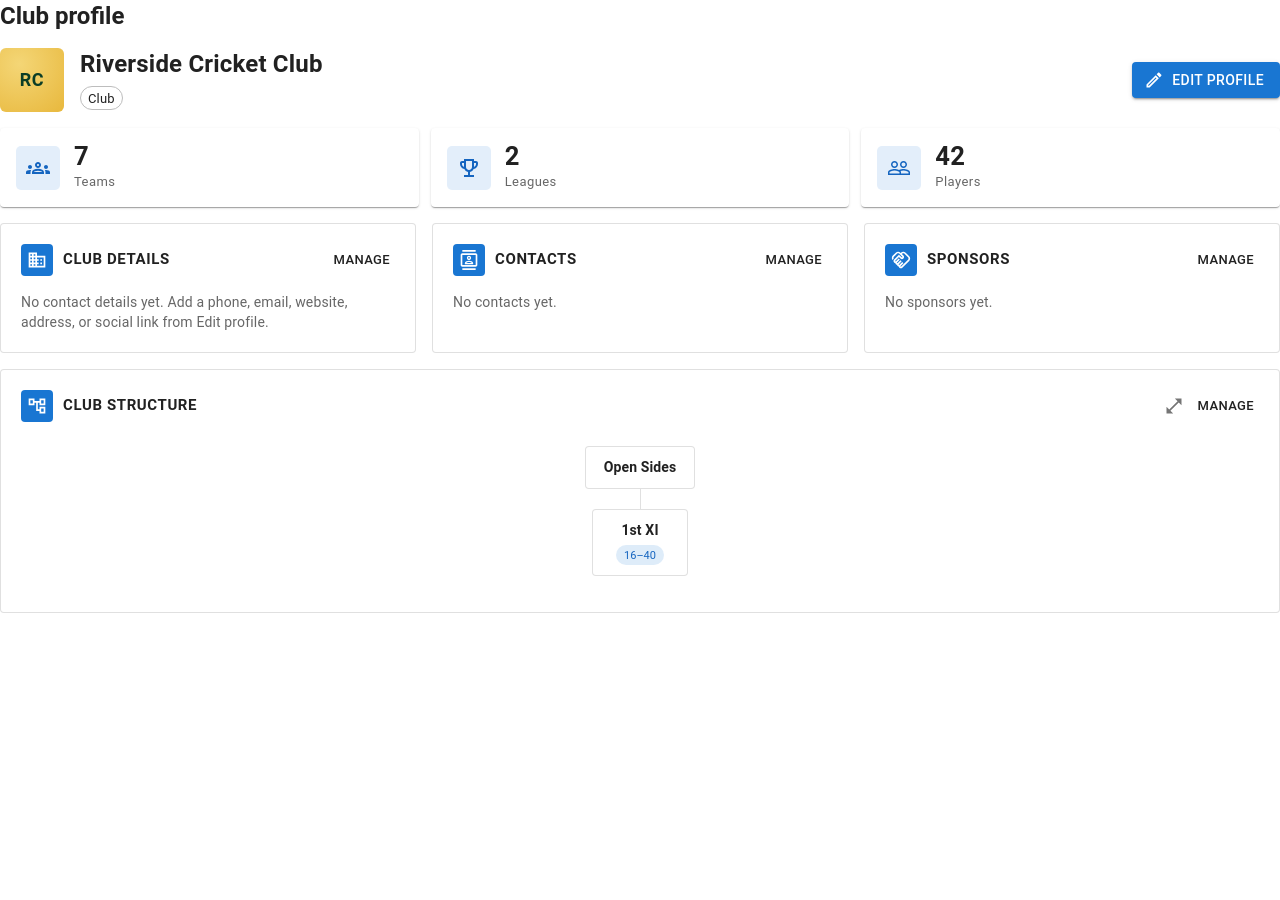
ClubOverviewPage › Club structure card › clicking a node shows the read-only panel with its Edit link, and Close clears it
The width and height of the screenshot is (1280, 900).
Click the button "1st XI 16–40" at coordinates (640, 542), box [592, 509, 688, 576]
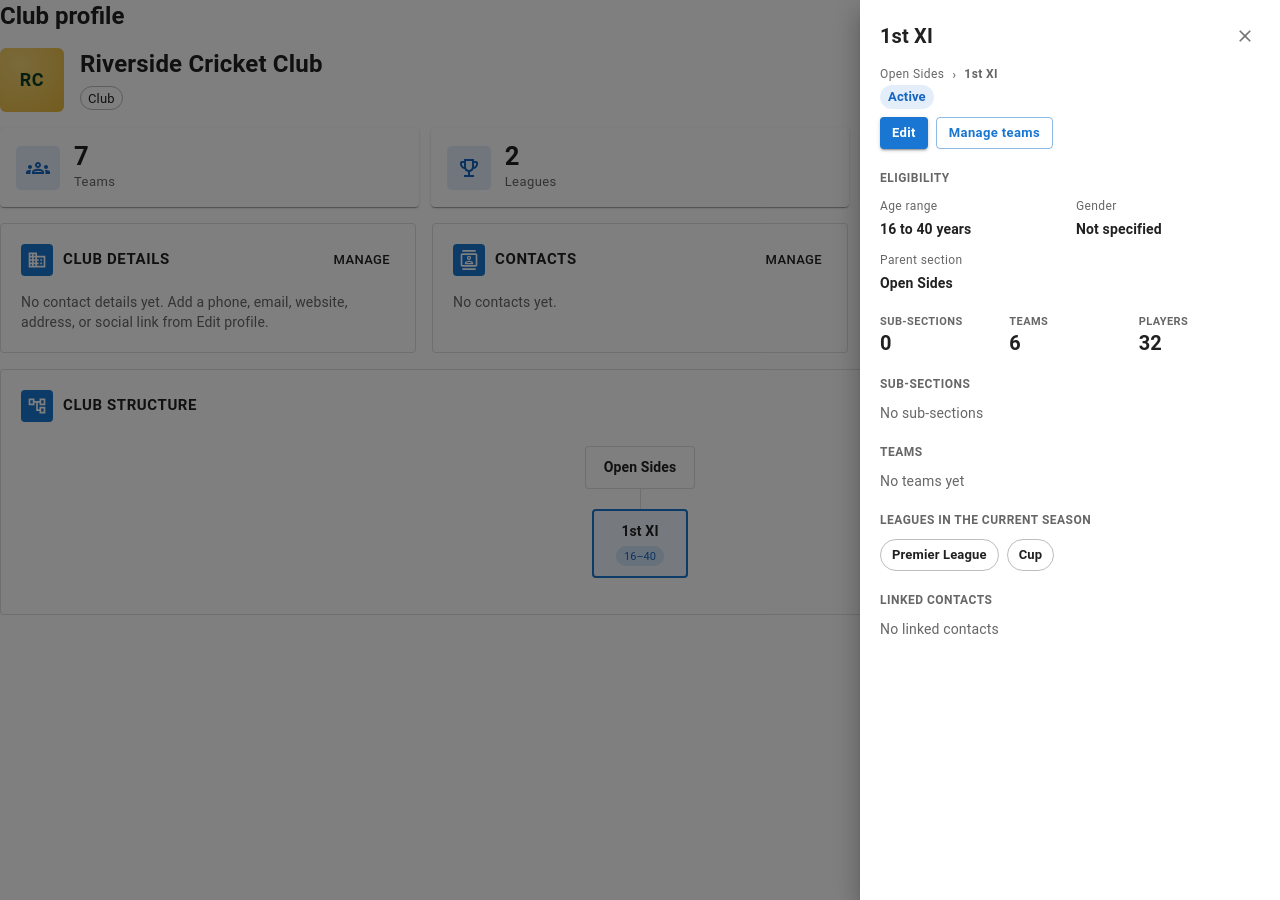
Now the heading "1st XI" is shown, box [880, 20, 933, 52]
Click the button named "Close section details" at coordinates (1245, 36), box [1230, 21, 1260, 51]
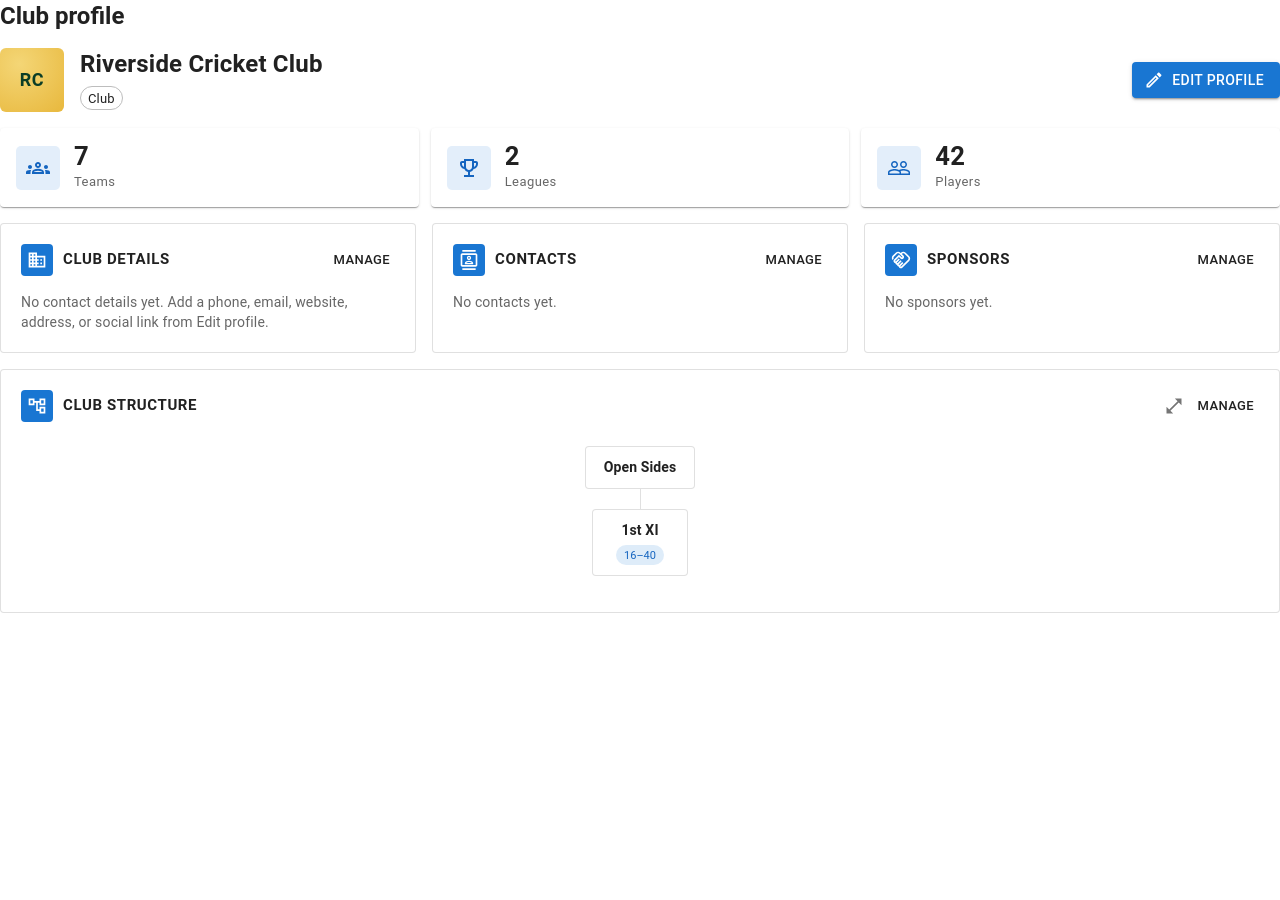
Now the element with test id "section-info-panel" is gone
